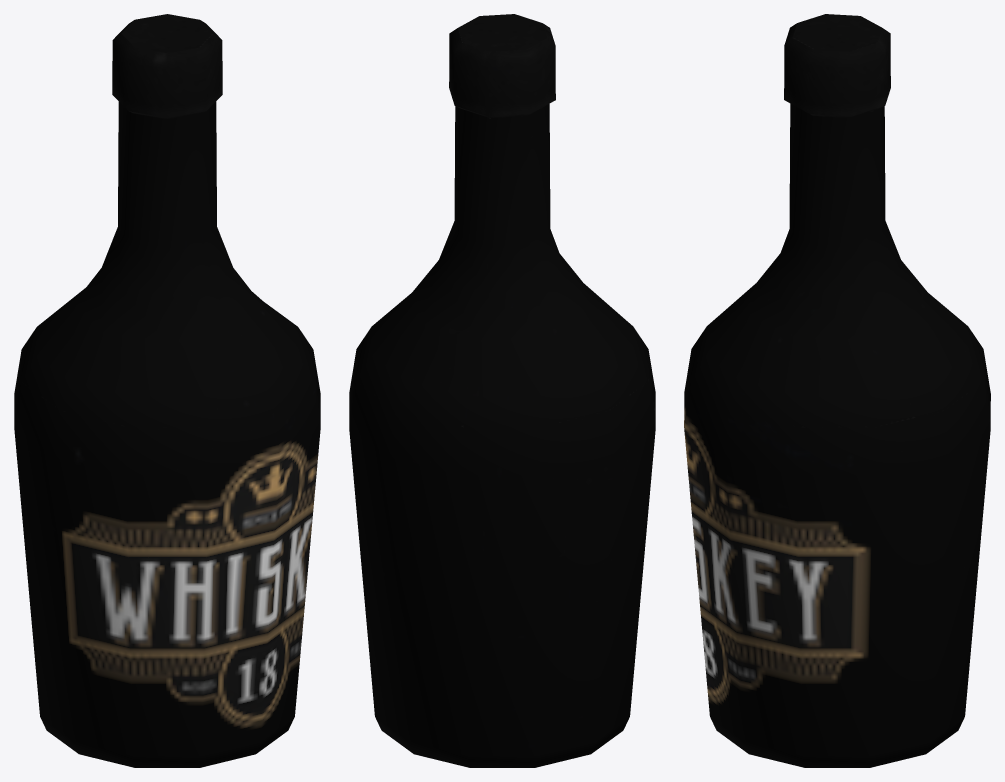
The model's file is Prop_Drink_Bottles_x5.fbx.
The picture shows the model from 3 angles, left to right: view 1: azimuth 30°, elevation 25°; view 2: azimuth 150°, elevation 25°; view 3: azimuth 270°, elevation 25°; orthographic projection.
Visible parts, largest first — view 1: Prop_Drink_Bottles_x5; view 2: Prop_Drink_Bottles_x5; view 3: Prop_Drink_Bottles_x5.
Boxes of the visible parts, x1,y1,x2,y2 form: Prop_Drink_Bottles_x5: (14,14,320,767); Prop_Drink_Bottles_x5: (349,14,655,767); Prop_Drink_Bottles_x5: (684,14,990,767).
Bounding box in the file's own units: 5.2 × 12.87 × 5.2.
